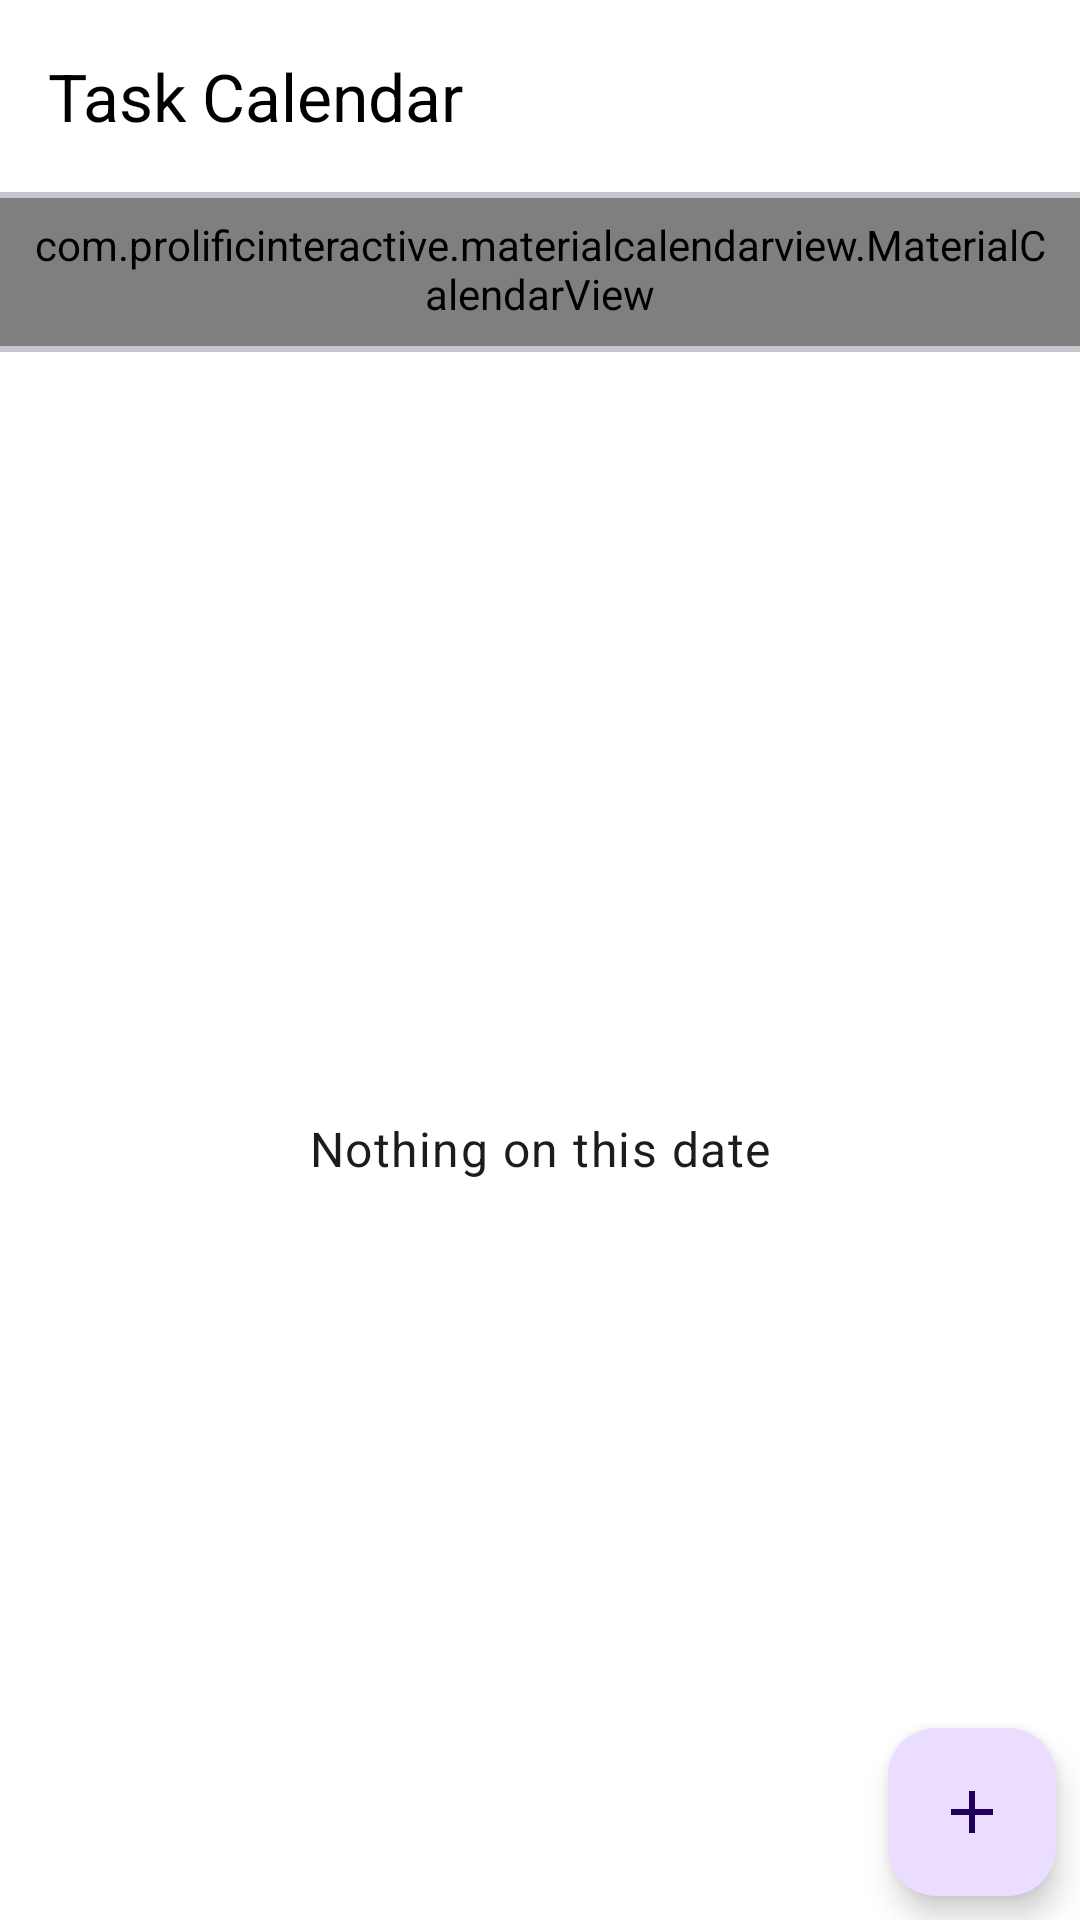

Screen size 1080*1920. Icon name, then its center in pixels as (x=x, y=y):
add: (x=972, y=1812)
